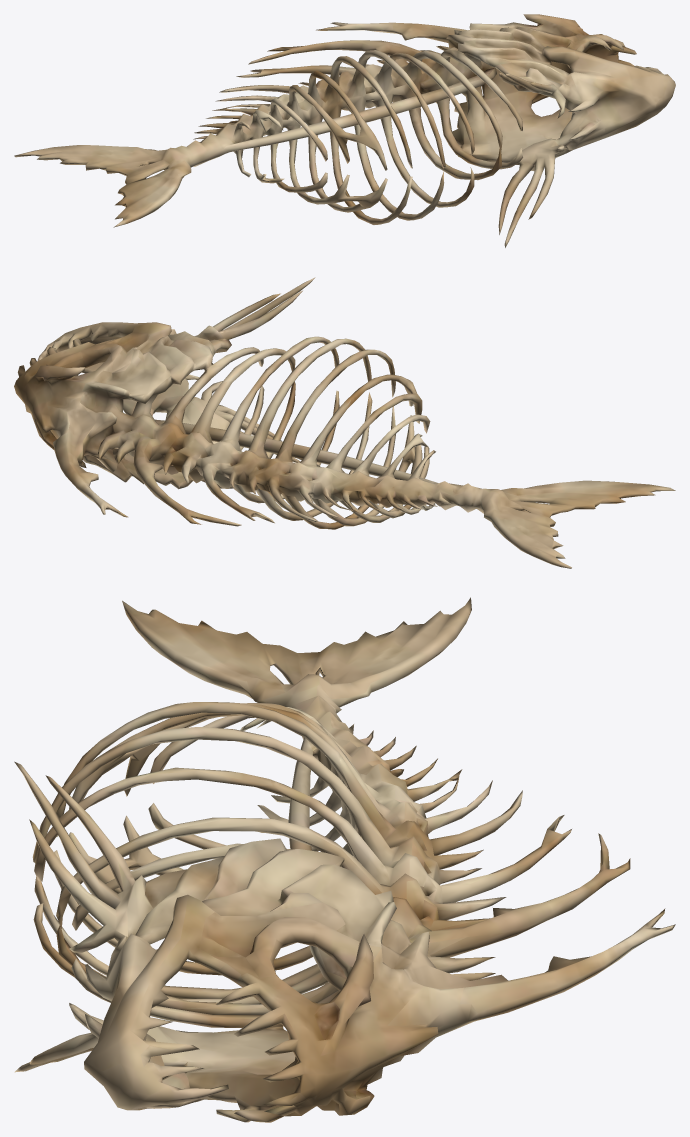
The model's file is bone_whole_xl.glb.
3 renders of one model, top to bottom at view 1: azimuth 30°, elevation 25°; view 2: azimuth 150°, elevation 25°; view 3: azimuth 270°, elevation 25°, orthographic. The views are drawn at different scales.
Parts seen in each view (by area): view 1: bone_whole_xl; view 2: bone_whole_xl; view 3: bone_whole_xl.
Part boxes in pixels (x1,y1,x2,y2): bone_whole_xl: [14, 14, 675, 247]; bone_whole_xl: [14, 277, 675, 568]; bone_whole_xl: [14, 597, 675, 1122].
Bounding box in the file's own units: 0.3 × 0.0873 × 0.1682.
Materials: 1 (1 with a texture image).
